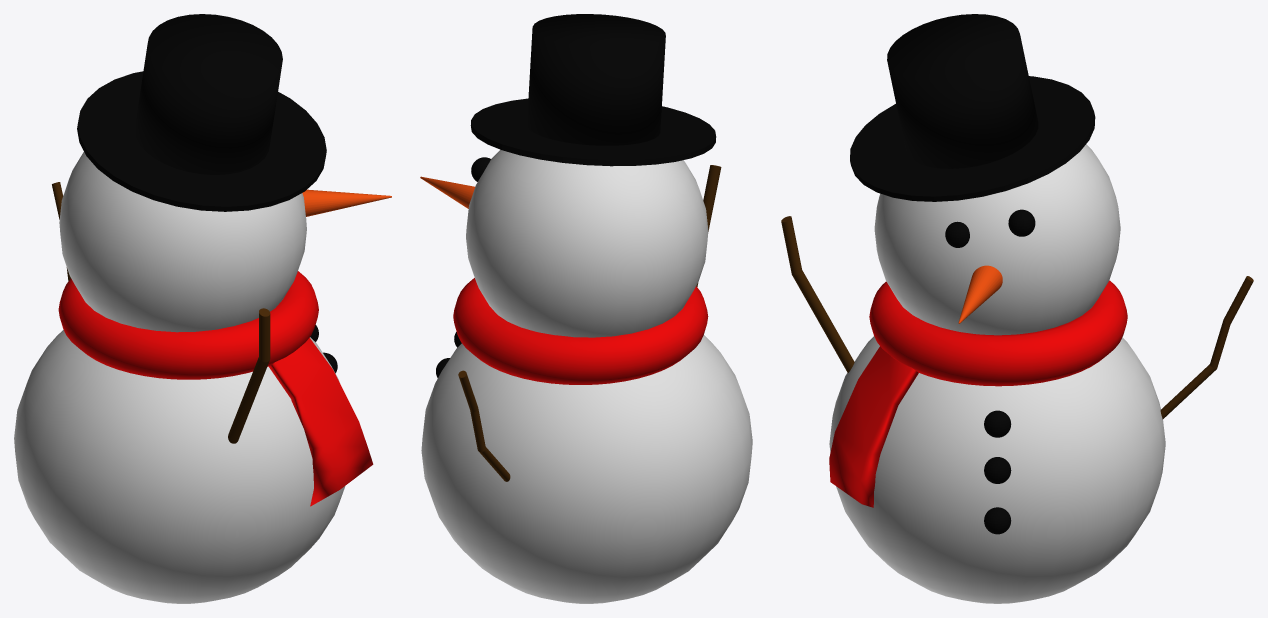
The model's file is snowman.glb.
3 renders of one model, left to right at view 1: azimuth 30°, elevation 25°; view 2: azimuth 150°, elevation 25°; view 3: azimuth 270°, elevation 25°, orthographic. The views are drawn at different scales.
Visible parts, largest first — view 1: Sphere.002, Sphere, Cylinder.001, Cylinder.002, Torus, Cube, Cylinder.004, Cylinder; view 2: Sphere.002, Sphere, Cylinder.001, Torus, Cylinder.002, Cylinder.003, Cylinder, Cylinder.004; view 3: Sphere.002, Sphere, Cylinder.001, Torus, Cylinder.002, Cube, Cylinder.004, Cylinder.003, Cylinder.
Boxes of the visible parts, x1=… form: Sphere.002: x1=14, y1=330, x2=345, y2=603; Sphere: x1=59, y1=152, x2=306, y2=332; Cylinder.001: x1=134, y1=14, x2=282, y2=174; Cylinder.002: x1=77, y1=71, x2=326, y2=211; Torus: x1=58, y1=271, x2=318, y2=379; Cube: x1=268, y1=337, x2=373, y2=506; Cylinder.004: x1=228, y1=308, x2=270, y2=443; Cylinder: x1=302, y1=189, x2=391, y2=216; Sphere.002: x1=421, y1=335, x2=752, y2=603; Sphere: x1=466, y1=149, x2=708, y2=337; Cylinder.001: x1=527, y1=14, x2=665, y2=145; Torus: x1=453, y1=278, x2=708, y2=384; Cylinder.002: x1=470, y1=98, x2=716, y2=166; Cylinder.003: x1=458, y1=370, x2=510, y2=481; Cylinder: x1=420, y1=176, x2=474, y2=208; Cylinder.004: x1=696, y1=165, x2=721, y2=286; Sphere.002: x1=829, y1=336, x2=1165, y2=603; Sphere: x1=874, y1=144, x2=1120, y2=335; Cylinder.001: x1=887, y1=14, x2=1038, y2=168; Torus: x1=869, y1=280, x2=1127, y2=386; Cylinder.002: x1=850, y1=76, x2=1095, y2=201; Cube: x1=829, y1=346, x2=918, y2=507; Cylinder.004: x1=781, y1=216, x2=854, y2=372; Cylinder.003: x1=1160, y1=276, x2=1253, y2=419; Cylinder: x1=958, y1=265, x2=1002, y2=323.
Bounding box in the file's own units: 3.36 × 5.36 × 4.12.
